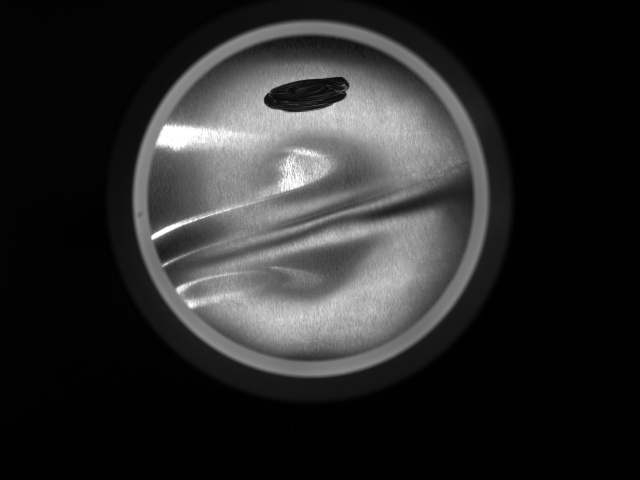zang_wu: (262, 75, 354, 114)
zhe_zhou: (193, 61, 429, 333)
